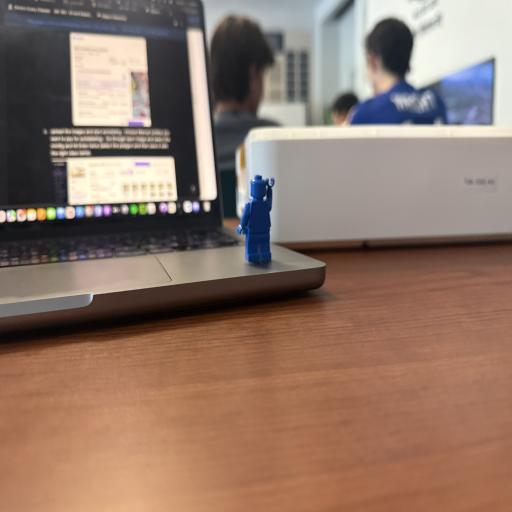Minifig: (237, 175, 274, 263)
